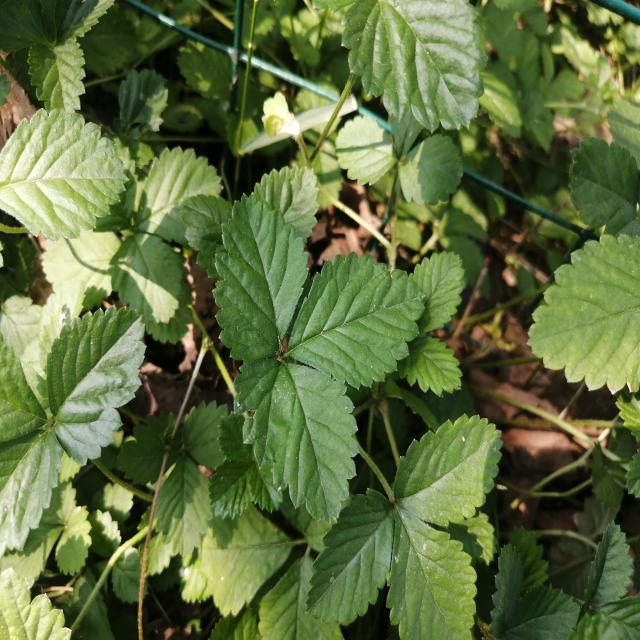Mock_strawberry: (178, 178, 422, 540)
